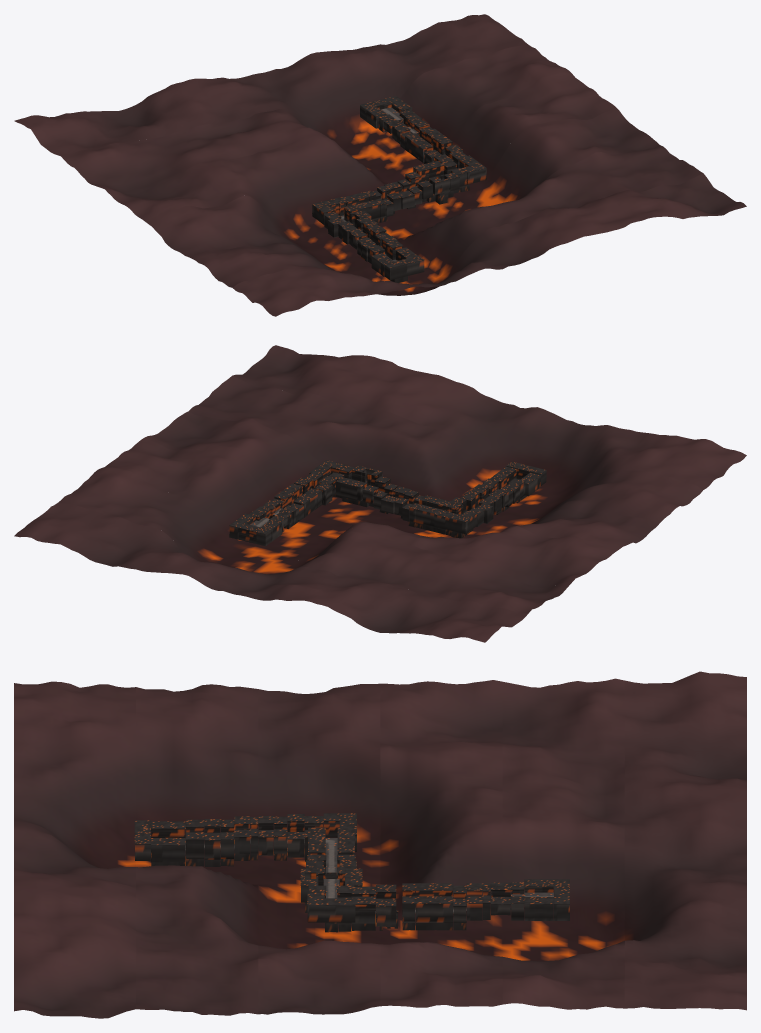
File: ashen_caverns_terrain.glb
The picture shows the model from 3 angles, top to bottom: view 1: azimuth 30°, elevation 25°; view 2: azimuth 150°, elevation 25°; view 3: azimuth 270°, elevation 25°; orthographic projection. The views are drawn at different scales.
Parts seen in each view (by area): view 1: backdrop_5, backdrop_3, backdrop_4, backdrop_2, backdrop_0, backdrop_1, terrain_E, terrain_I, terrain_G, terrain_D, terrain_F, terrain_A (+3 smaller); view 2: backdrop_0, backdrop_1, backdrop_5, backdrop_4, backdrop_3, backdrop_2, terrain_D, terrain_I, terrain_E, terrain_G, terrain_F, terrain_H (+3 smaller); view 3: backdrop_5, backdrop_0, backdrop_4, backdrop_3, backdrop_1, backdrop_2, terrain_G, terrain_I, terrain_H, terrain_B, terrain_C, terrain_A (+3 smaller).
Boxes of the visible parts, <box> form: backdrop_5: <box>14,14,528,155</box>; backdrop_3: <box>102,73,615,225</box>; backdrop_4: <box>58,45,571,193</box>; backdrop_2: <box>145,107,659,262</box>; backdrop_0: <box>232,173,746,316</box>; backdrop_1: <box>189,145,702,287</box>; terrain_E: <box>372,171,432,222</box>; terrain_I: <box>360,96,422,138</box>; terrain_G: <box>418,138,486,192</box>; terrain_D: <box>312,190,386,226</box>; terrain_F: <box>413,161,466,204</box>; terrain_A: <box>371,247,424,282</box>; backdrop_0: <box>232,345,746,495</box>; backdrop_1: <box>189,375,702,527</box>; backdrop_5: <box>14,503,528,642</box>; backdrop_4: <box>58,467,571,613</box>; backdrop_3: <box>102,437,615,588</box>; backdrop_2: <box>145,411,659,551</box>; terrain_D: <box>409,495,477,538</box>; terrain_I: <box>229,504,292,546</box>; terrain_E: <box>363,476,423,527</box>; terrain_G: <box>288,460,344,507</box>; terrain_F: <box>335,465,382,507</box>; terrain_H: <box>264,487,317,528</box>; backdrop_5: <box>624,671,746,1010</box>; backdrop_0: <box>14,681,136,1018</box>; backdrop_4: <box>502,678,624,1009</box>; backdrop_3: <box>380,680,502,1007</box>; backdrop_1: <box>136,684,258,1015</box>; backdrop_2: <box>258,683,380,1014</box>; terrain_G: <box>307,883,415,932</box>; terrain_I: <box>482,879,569,921</box>; terrain_H: <box>415,883,482,930</box>; terrain_B: <box>186,816,250,866</box>; terrain_C: <box>250,814,323,861</box>; terrain_A: <box>134,820,185,866</box>.
Bounding box in the file's own units: 567 × 60.85 × 546.
